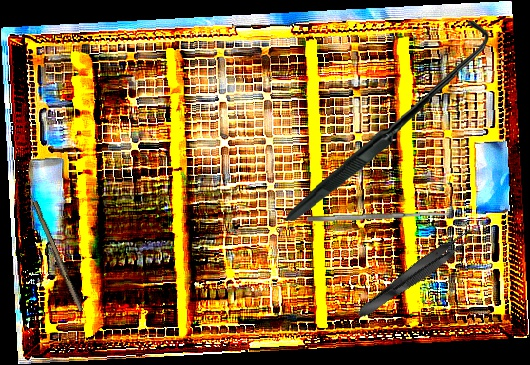Hook Surgical: (277, 20, 496, 221)
Scalpel Handle: (28, 200, 86, 313)
Spatula Surgical: (306, 210, 449, 223)
Tissue Forceps: (352, 224, 478, 324)
